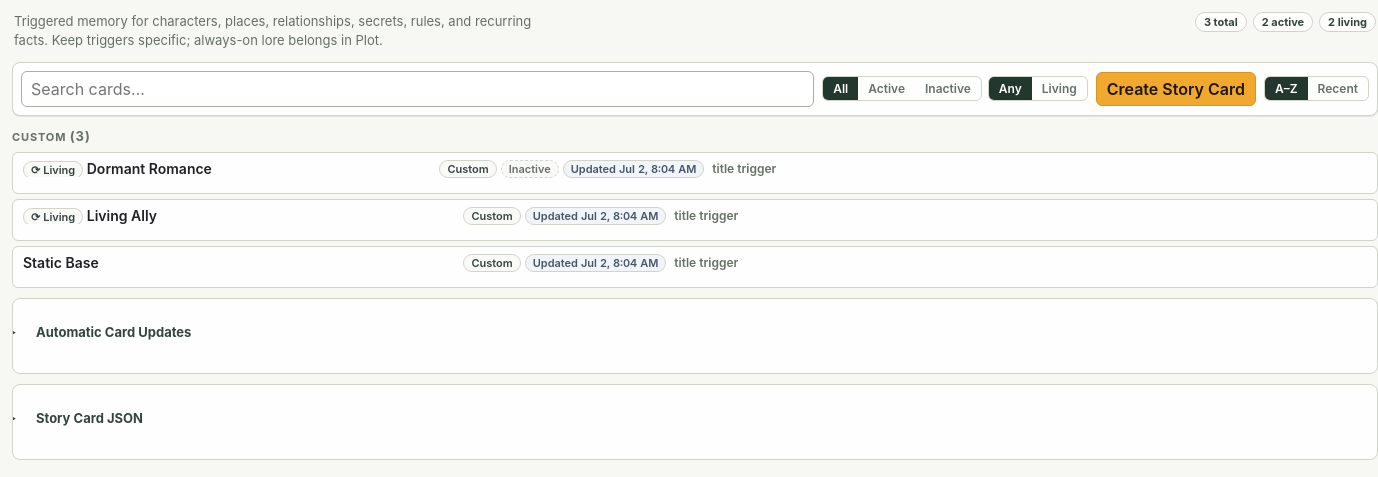
side menu page smoke coverage › filters Story Cards by active status and living mode
The width and height of the screenshot is (1378, 477).
Click the button "Active": [887, 89] box [858,77,915,100]
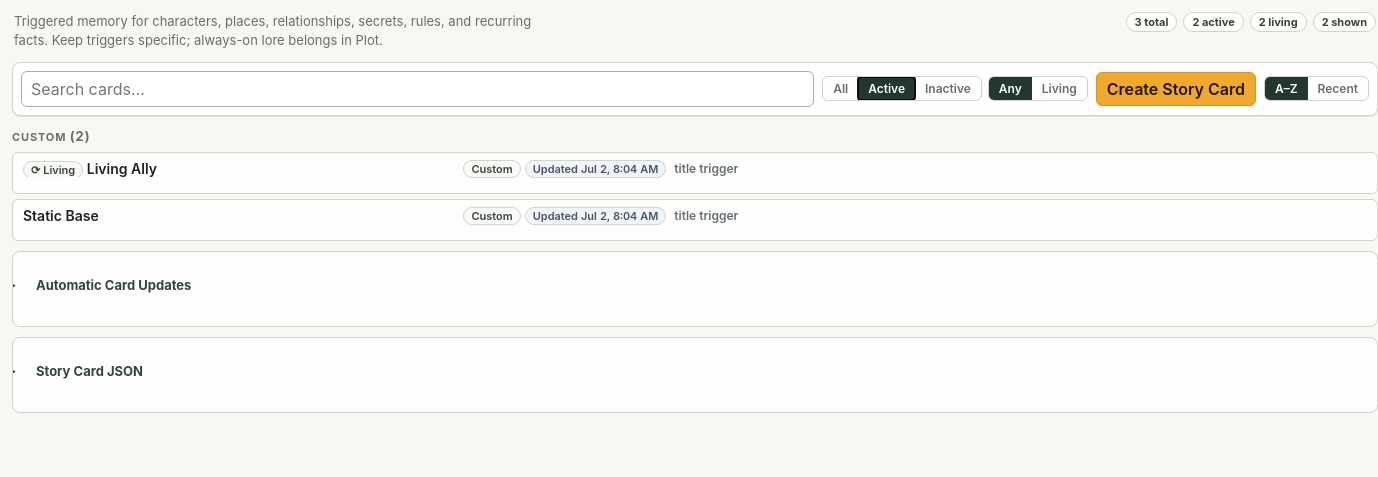
Click the button "Living": [1059, 89] box [1032,77,1087,100]
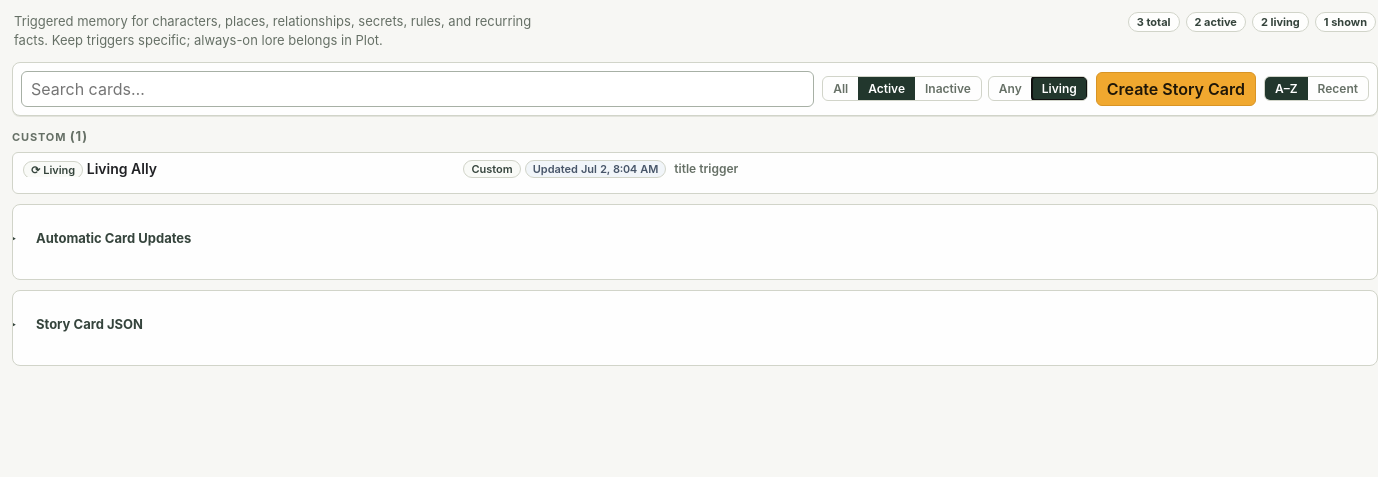
expect the element with class "story-card-editor-item" does not show "Dormant Romance": met, box [12,152,1377,194]
expect the number of elements with class "story-card-editor-item" is 1: met, box [12,152,1377,194]
expect the text "1 shown" is shown: met, box [1315,12,1376,32]
